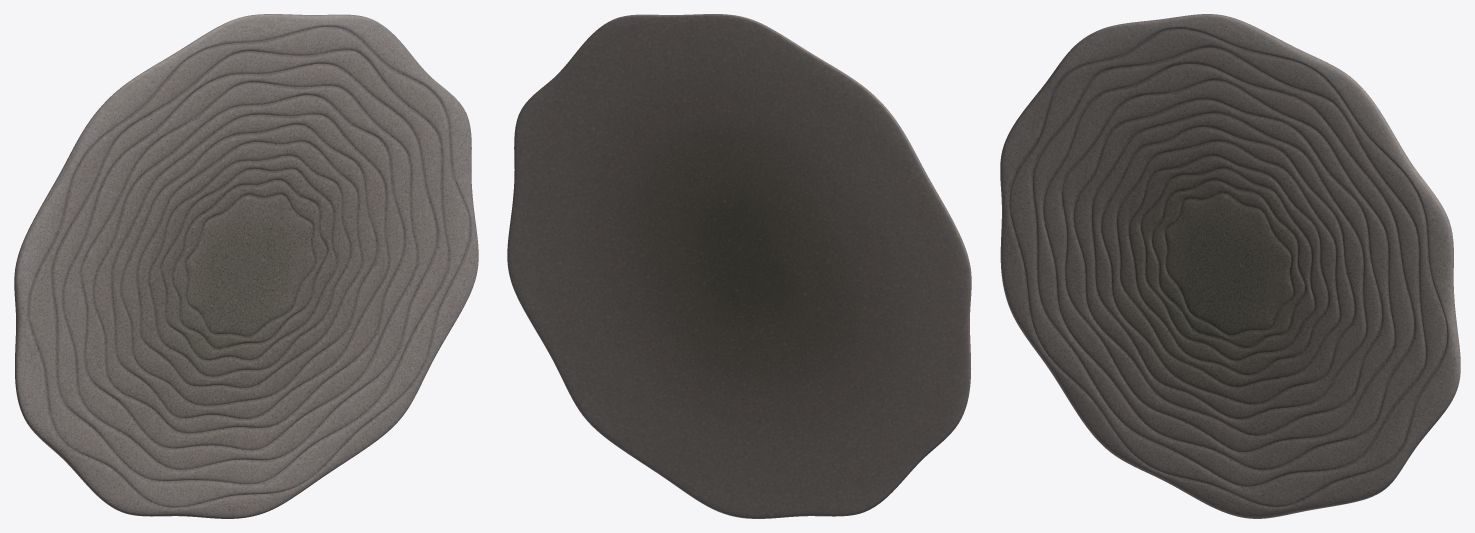
The model's file is covor2.glb.
The picture shows the model from 3 angles, left to right: view 1: azimuth 30°, elevation 25°; view 2: azimuth 150°, elevation 25°; view 3: azimuth 330°, elevation 25°; orthographic projection.
Visible parts, largest first — view 1: Node1; view 2: Node1; view 3: Node1.
Boxes of the visible parts, x1,y1,x2,y2 form: Node1: (14,14,478,518); Node1: (507,14,971,518); Node1: (1000,14,1460,518).
Bounding box in the file's own units: 172 × 178 × 3.
1 material, 1 textured.
